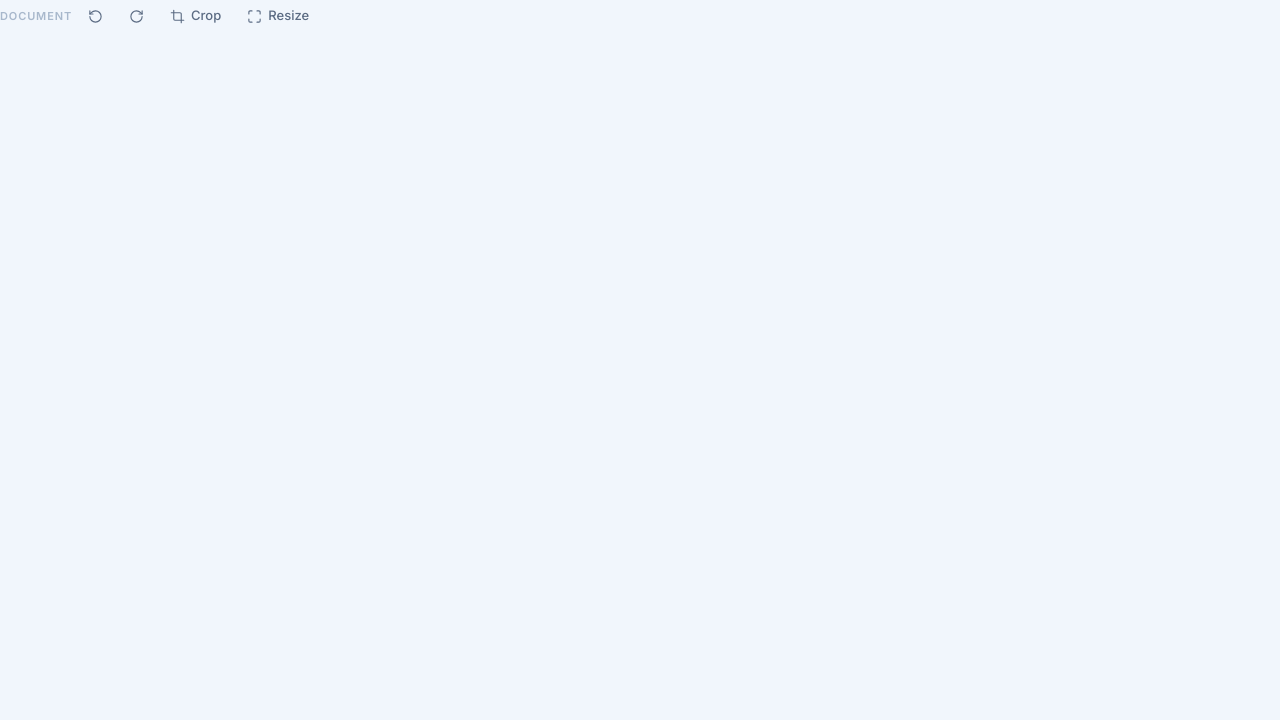
Test: DocumentControls › resizes via the dialog and closes it
Click the button "Resize" at point(278, 16), box [237,0,319,32]
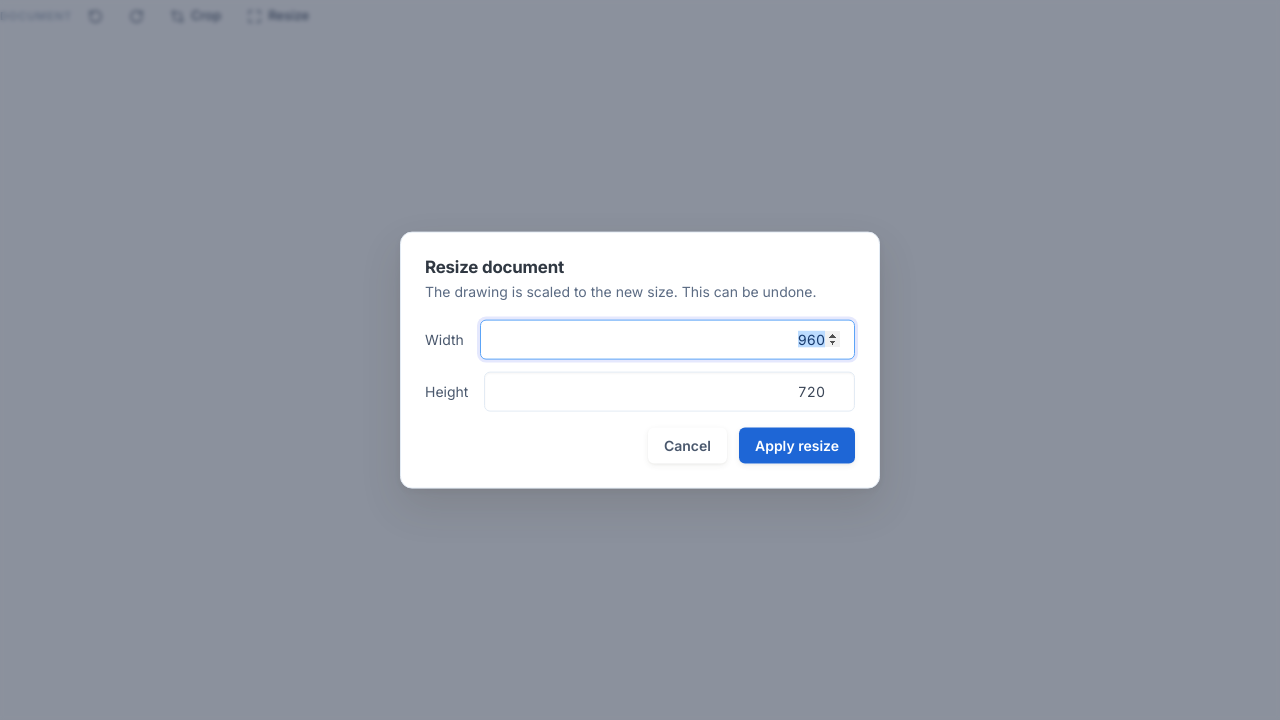
Replace the text in the number field labelled "Width" with "480" at point(667, 339), box [480,319,855,359]
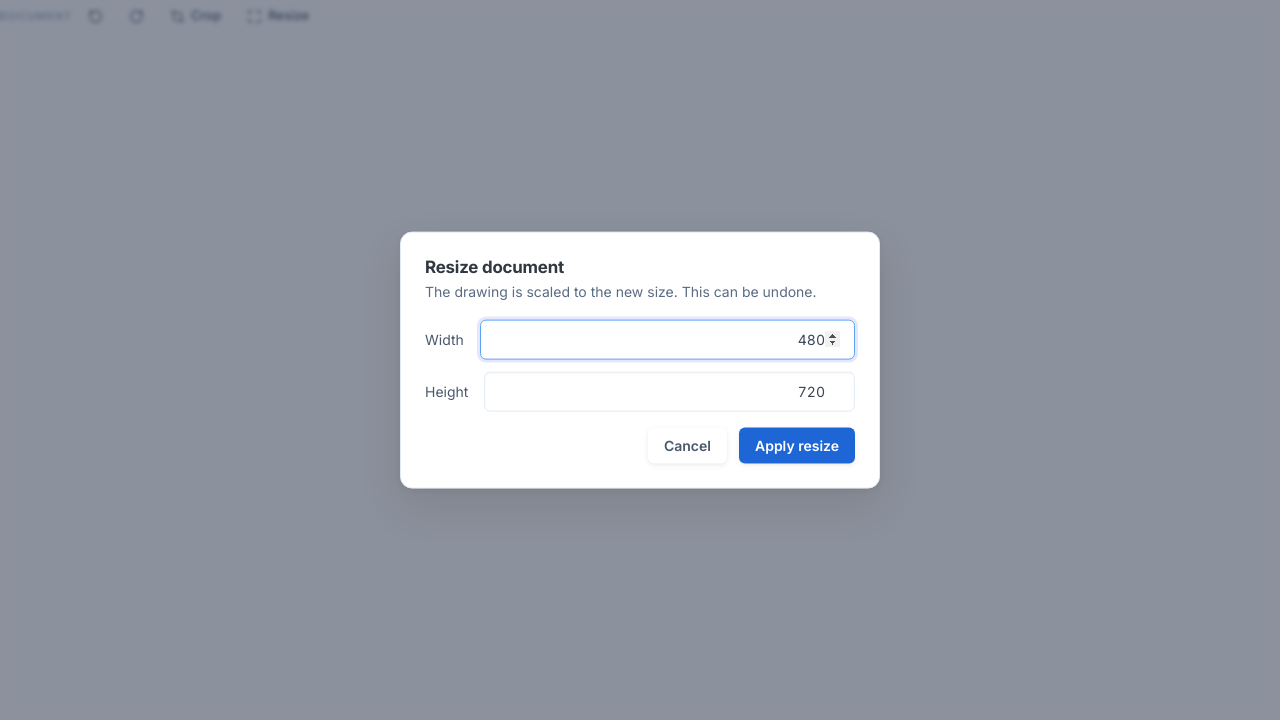
Click the button "Apply resize" at point(797, 445), box [739,427,855,463]
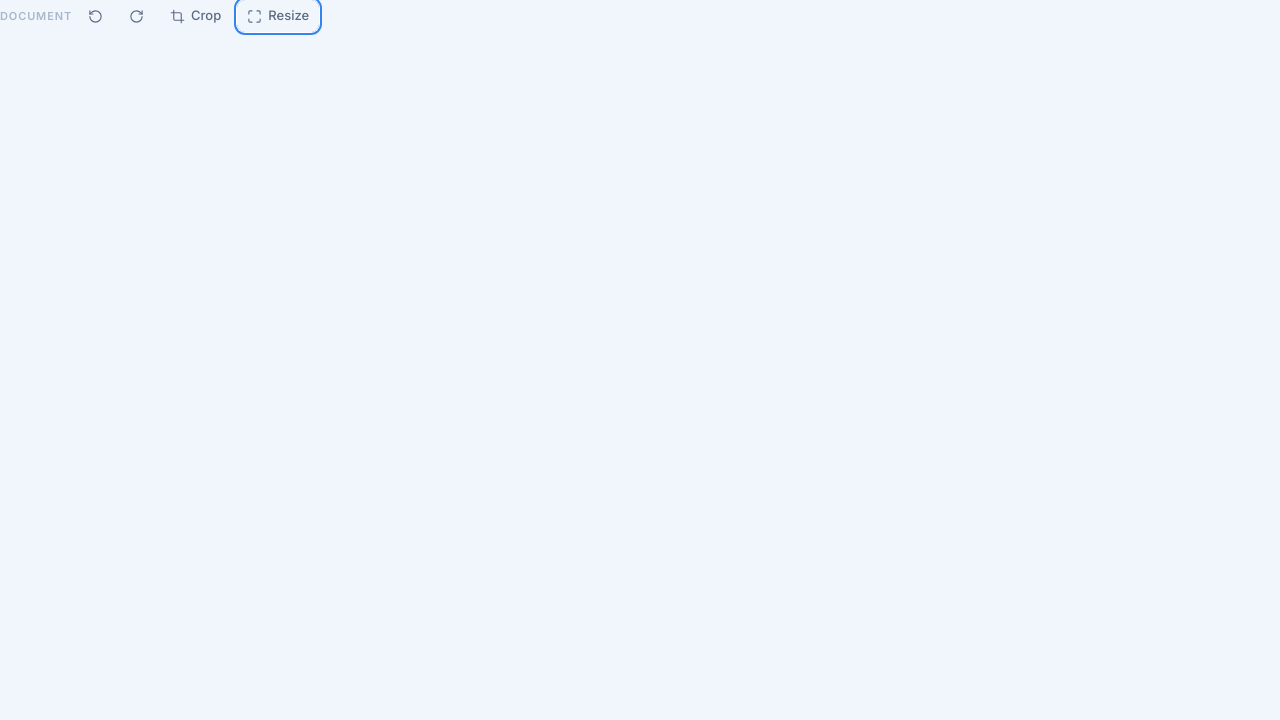
Check: the dialog is gone
